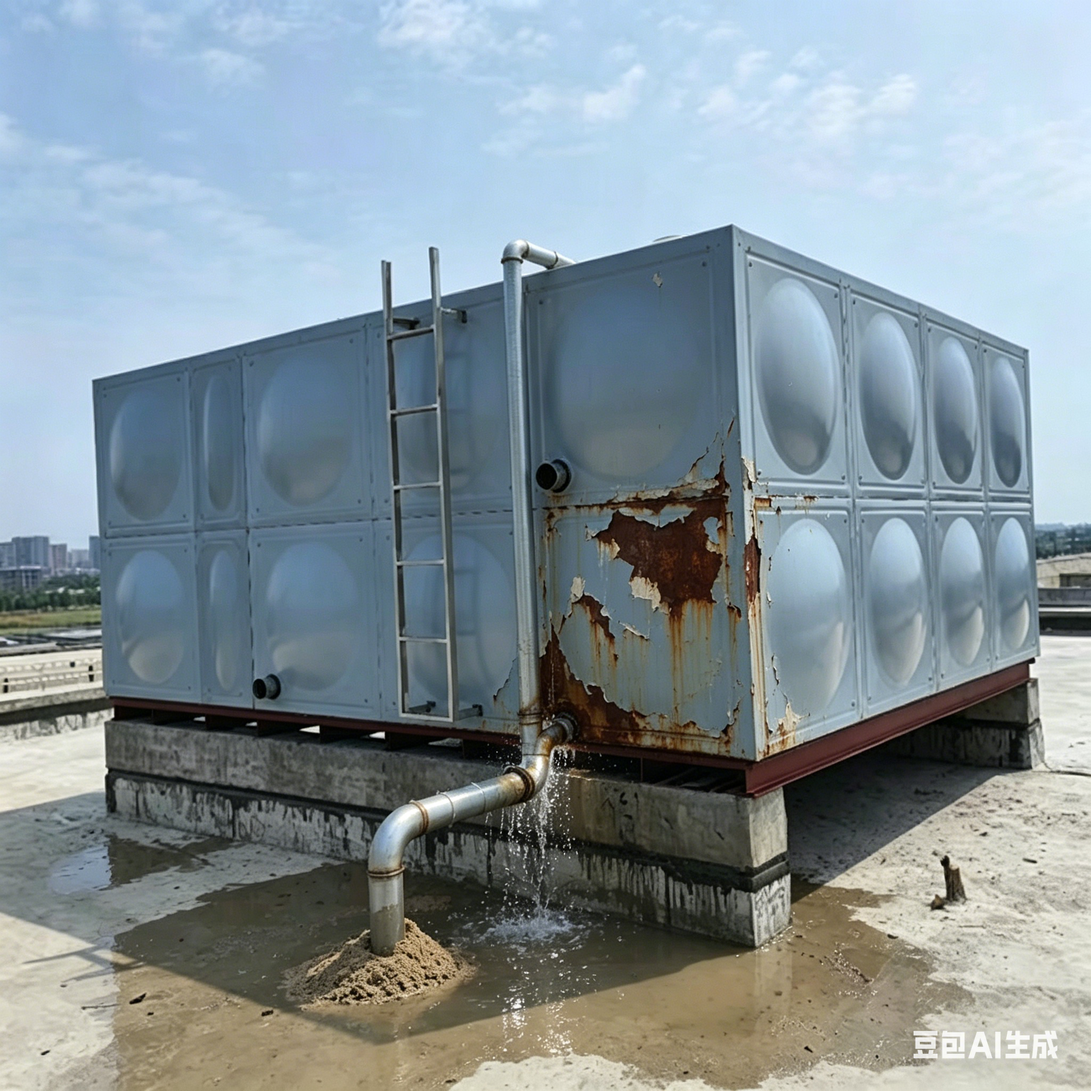Leakage: (608, 908, 947, 1085), (140, 925, 471, 1091), (477, 700, 596, 1059), (28, 828, 176, 892), (229, 882, 469, 915)
